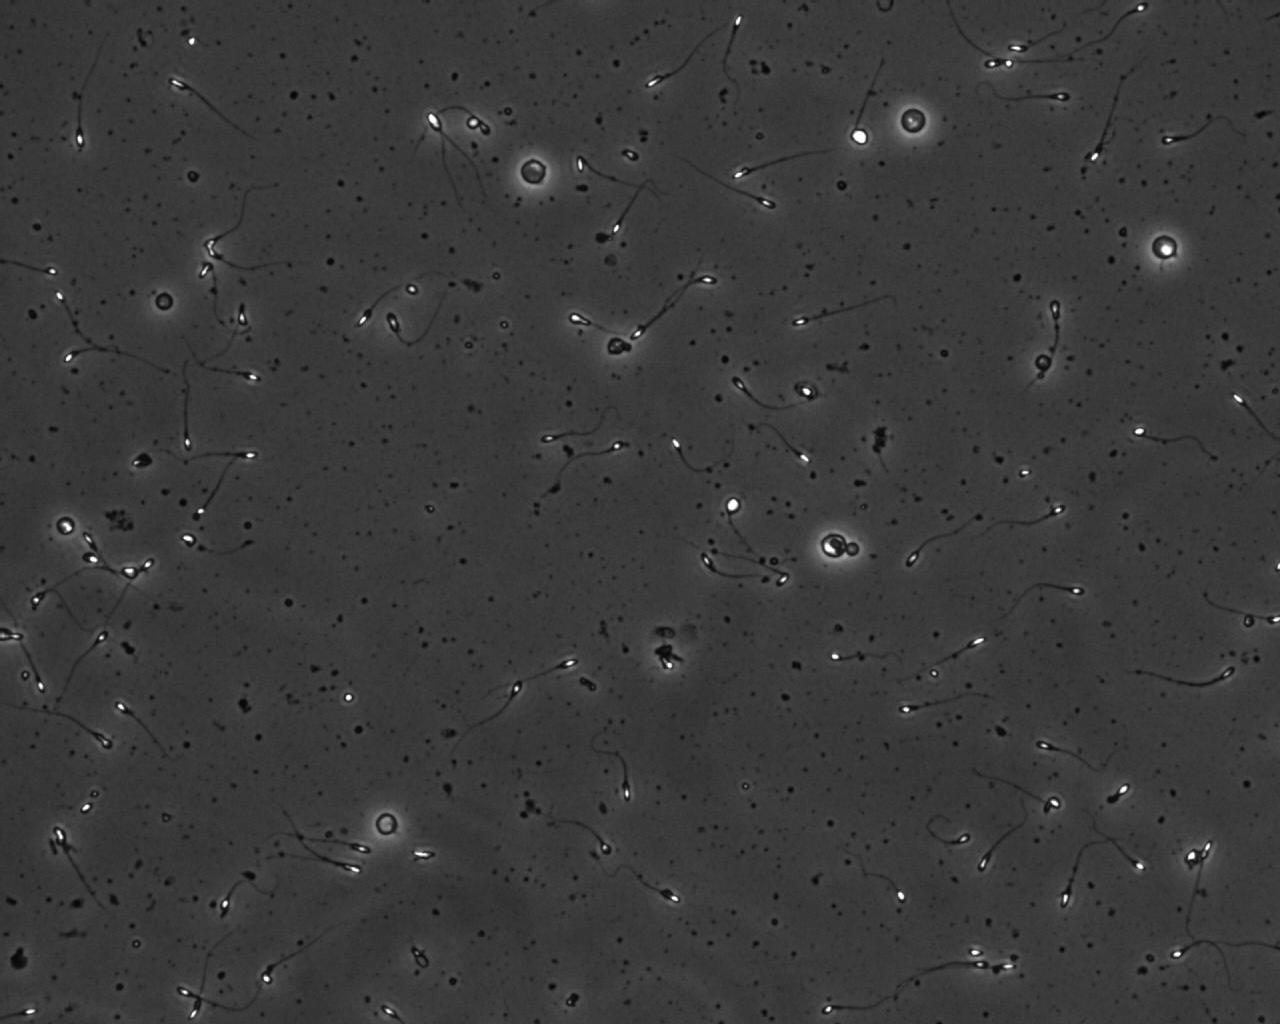cell: (513, 152, 553, 192), (893, 102, 932, 140), (816, 529, 851, 563), (1147, 230, 1181, 263), (371, 809, 402, 840), (602, 333, 634, 360), (52, 512, 79, 540), (845, 123, 872, 150), (1030, 350, 1057, 376), (150, 288, 177, 315), (842, 538, 864, 560)
